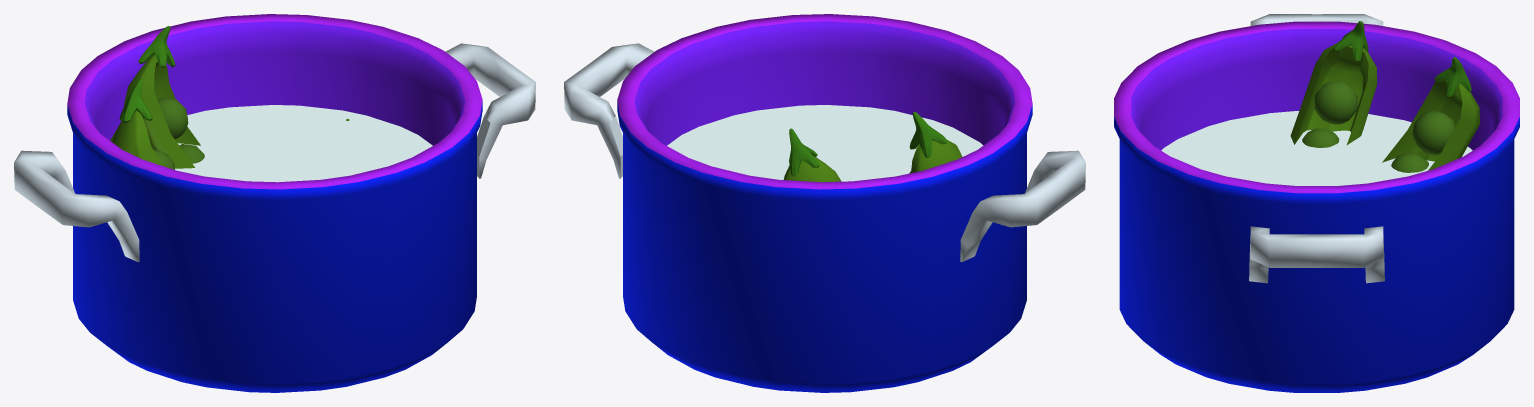
The model's file is PottedPeas.fbx.
The picture shows the model from 3 angles, left to right: view 1: azimuth 30°, elevation 25°; view 2: azimuth 150°, elevation 25°; view 3: azimuth 270°, elevation 25°; orthographic projection.
Visible parts, largest first — view 1: Body.006, Water.001, Handles.004, Peas.005; view 2: Body.006, Water.001, Handles.004, Peas.005; view 3: Body.006, Peas.005, Water.001, Handles.004.
Part boxes in pixels (<box>): Body.006: <box>67,14,482,392</box>; Water.001: <box>175,105,432,182</box>; Handles.004: <box>14,43,535,261</box>; Peas.005: <box>110,26,349,169</box>; Body.006: <box>617,14,1032,392</box>; Water.001: <box>667,105,983,181</box>; Handles.004: <box>564,43,1085,261</box>; Peas.005: <box>783,112,962,182</box>; Body.006: <box>1114,21,1519,392</box>; Peas.005: <box>1290,21,1480,172</box>; Water.001: <box>1161,111,1472,185</box>; Handles.004: <box>1249,14,1384,283</box>.
Bounding box in the file's own units: 83.38 × 41.62 × 62.94.
